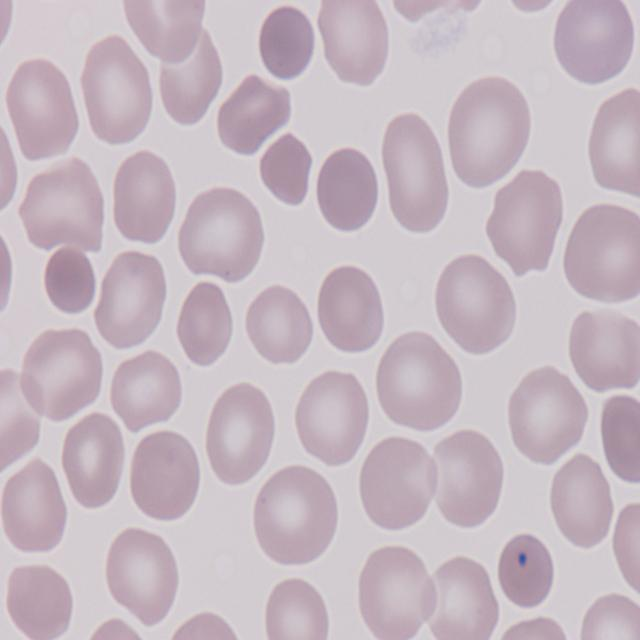RBC: (250, 460, 344, 572), (448, 73, 534, 190), (373, 330, 465, 436), (176, 178, 267, 284), (75, 34, 156, 148), (434, 254, 520, 359), (15, 324, 105, 424), (100, 526, 182, 633), (381, 108, 448, 237), (2, 56, 82, 164), (486, 170, 567, 276), (202, 377, 278, 488), (356, 434, 440, 534), (17, 158, 106, 252), (294, 364, 374, 468), (427, 430, 507, 534), (562, 196, 640, 302), (506, 362, 586, 464), (356, 539, 436, 640), (92, 248, 168, 354), (124, 428, 206, 526), (550, 0, 636, 92), (109, 148, 180, 251), (314, 262, 390, 356), (548, 452, 618, 554), (152, 24, 222, 126), (314, 0, 394, 89), (0, 460, 70, 560), (61, 412, 130, 510), (584, 86, 640, 205), (107, 348, 186, 432), (426, 555, 504, 640), (567, 306, 640, 396), (214, 78, 294, 160), (244, 284, 318, 368), (3, 561, 80, 640), (172, 278, 238, 368), (121, 0, 210, 64), (264, 576, 334, 640), (596, 390, 640, 488), (258, 132, 315, 204), (611, 497, 640, 611), (162, 608, 258, 640), (577, 593, 640, 640), (492, 614, 574, 640), (0, 107, 19, 217), (80, 617, 156, 640), (0, 222, 13, 327), (496, 0, 575, 15), (0, 0, 18, 58)
Spherocyte: (313, 146, 385, 237), (253, 3, 316, 86), (497, 533, 559, 612), (40, 248, 94, 319)
